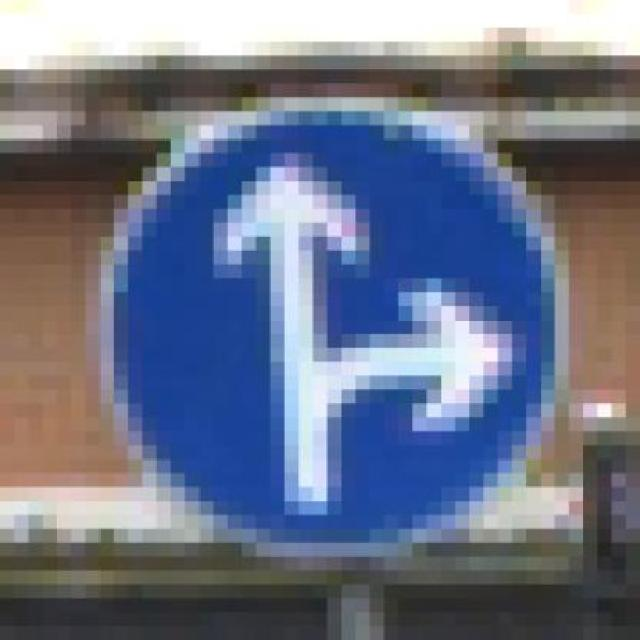Go Straight or Turn Right: (99, 69, 584, 571)
